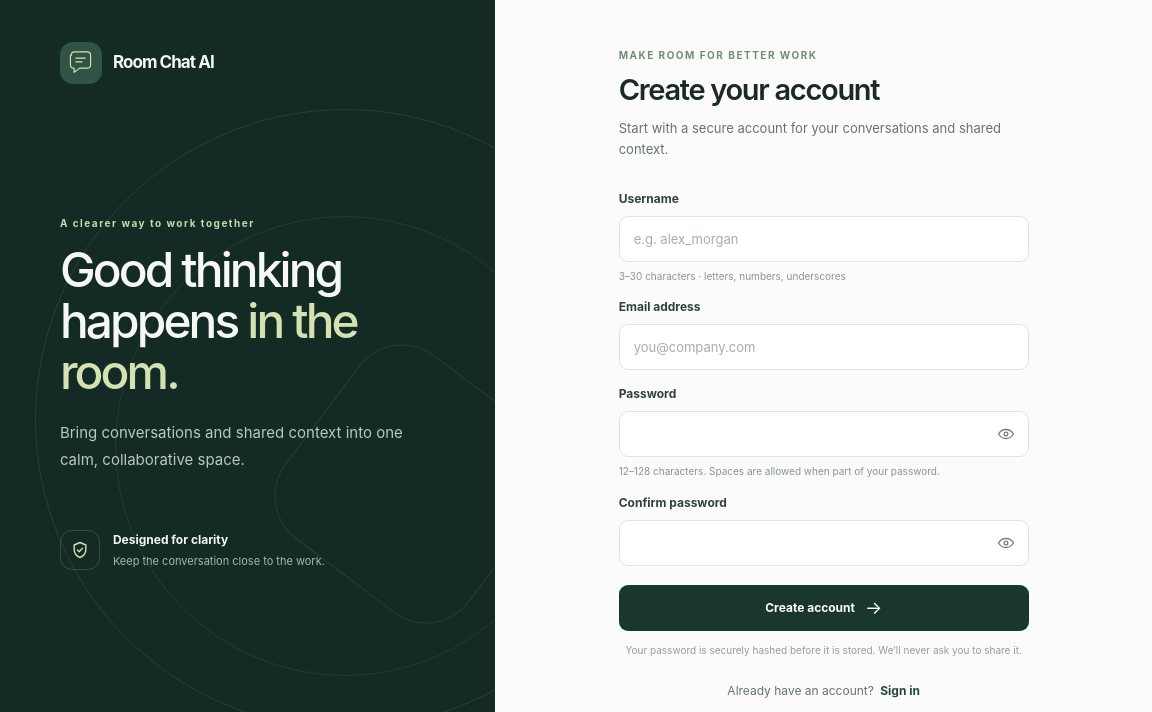
Scenario: registration › shows a safe duplicate username/email error
This screenshot has width=1152, height=712.
Type "alex_user" into the field labelled "Username" at (824, 239), box [619,216,1029,262]
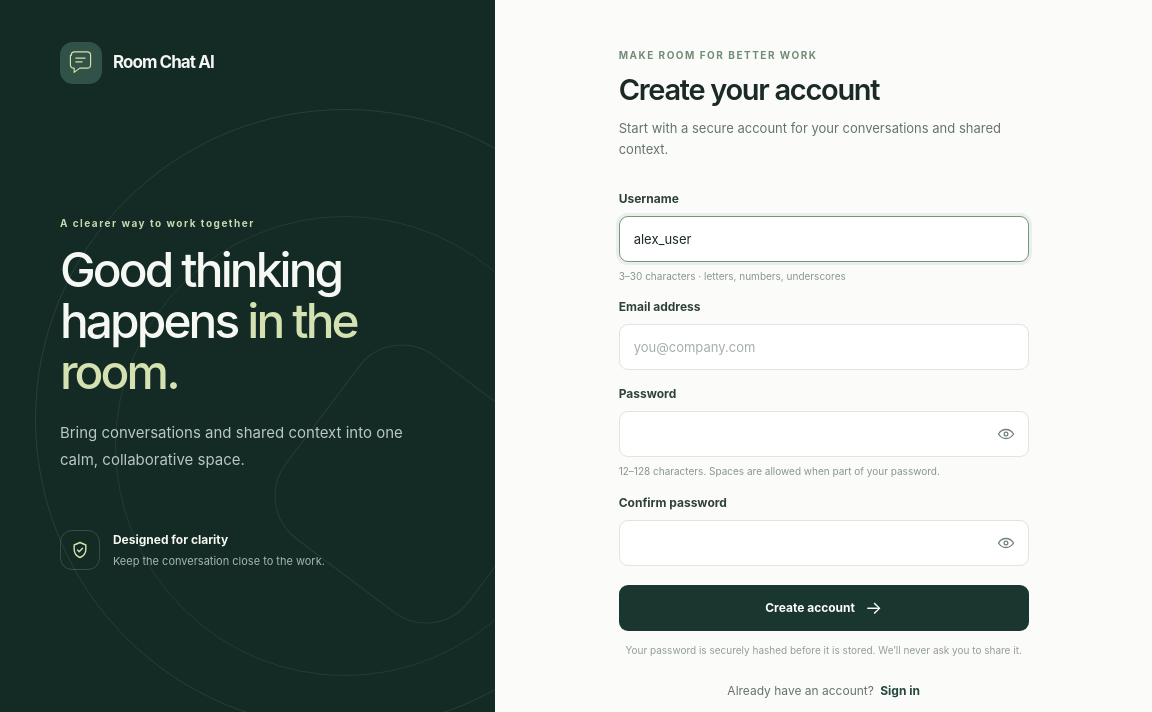
Type "alex@example.com" into the field labelled "Email address" at (824, 347), box [619,324,1029,370]
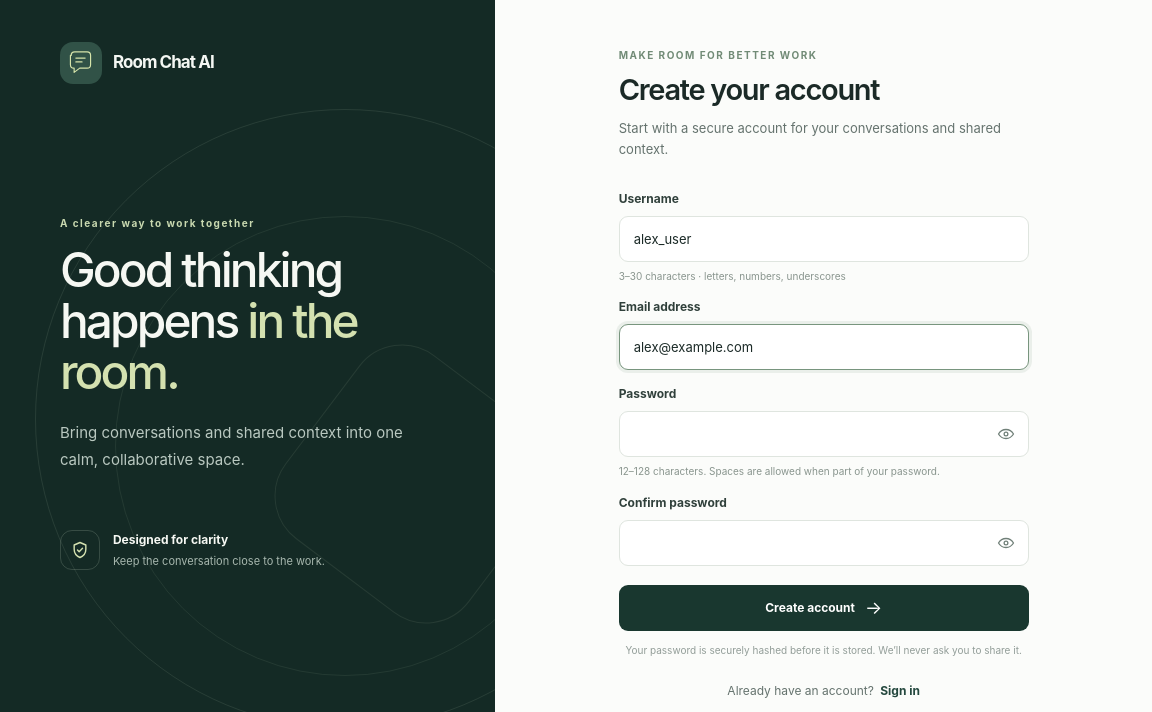
Type "correct horse battery" into the password field labelled "Password" at (824, 434), box [619,411,1029,457]
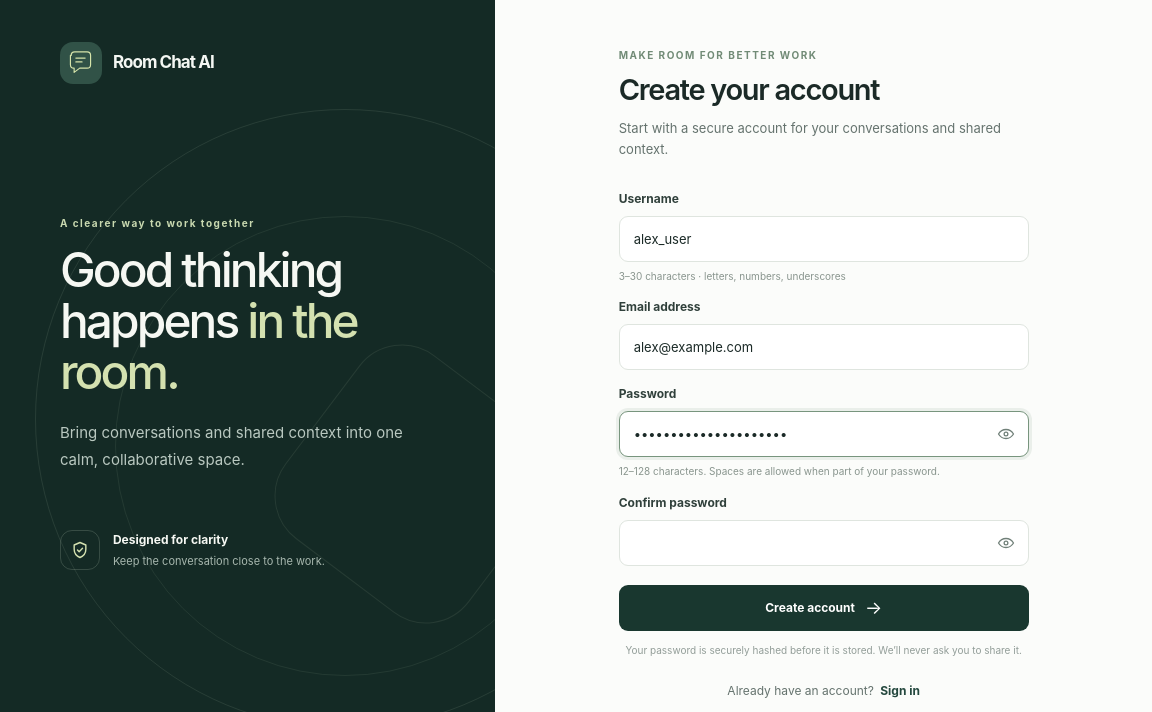
Type "correct horse battery" into the password field labelled "Confirm password" at (824, 543), box [619,520,1029,566]
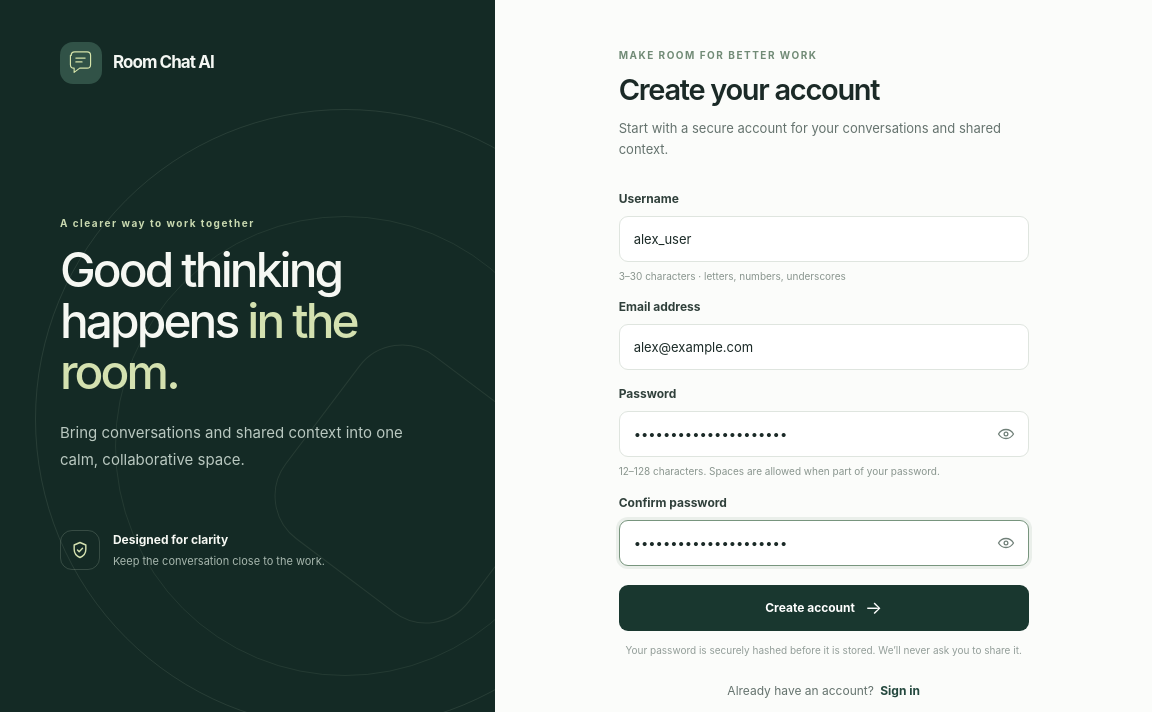
Click the button "Create account →" at (824, 608), box [619,585,1029,631]
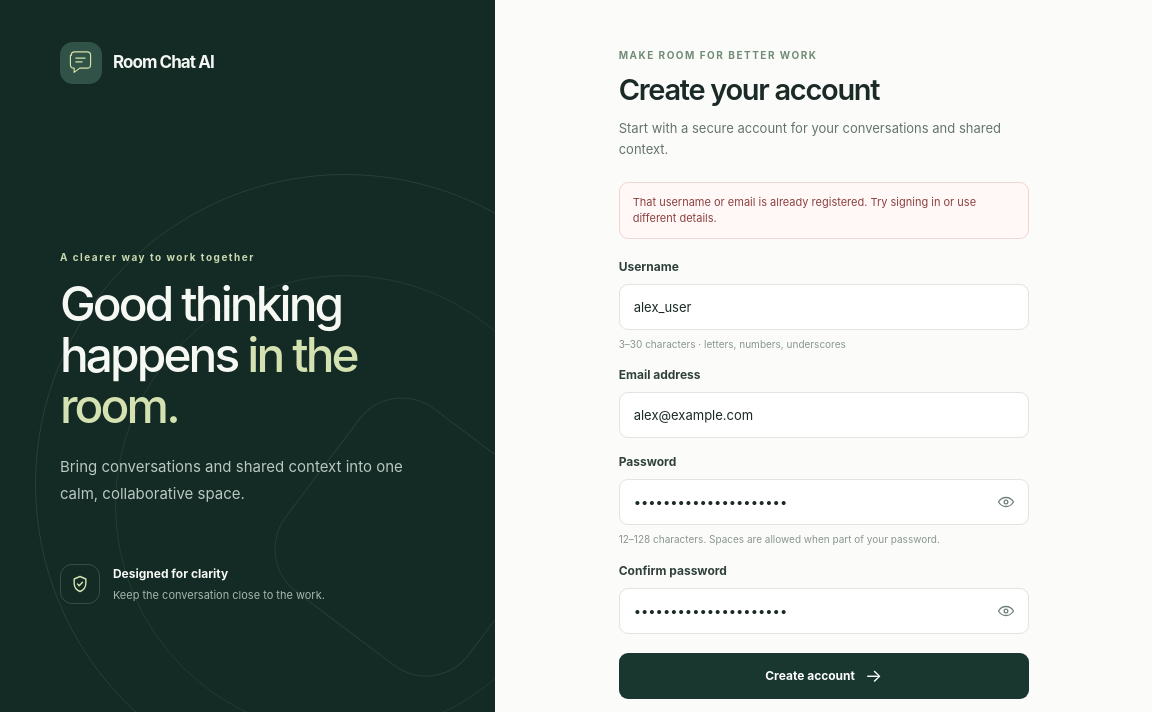
Check: the message does not show "constraint", box [619,182,1029,239]
Check: the message shows "already registered", box [633,195,976,225]
